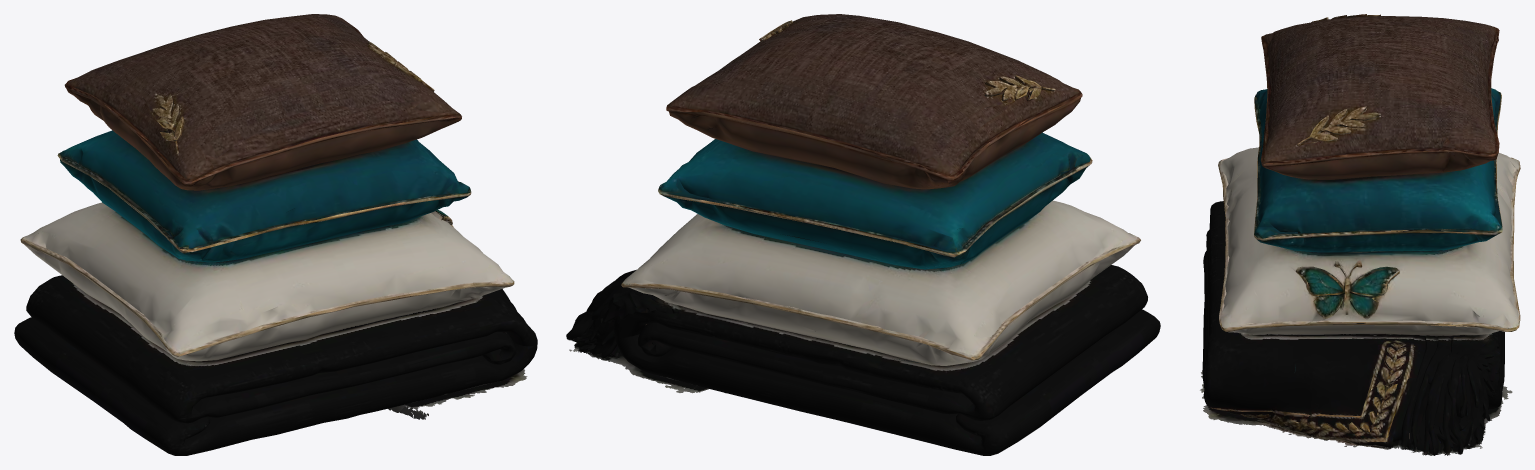
File: TH-12_textiles_game.glb
3 renders of one model, left to right at view 1: azimuth 30°, elevation 25°; view 2: azimuth 150°, elevation 25°; view 3: azimuth 270°, elevation 25°, orthographic. The views are drawn at different scales.
Visible parts, largest first — view 1: TH-12_textiles; view 2: TH-12_textiles; view 3: TH-12_textiles.
Boxes of the visible parts, left/top/right/bottom form: TH-12_textiles: left=14, top=14, right=537, bottom=455; TH-12_textiles: left=566, top=14, right=1160, bottom=455; TH-12_textiles: left=1200, top=14, right=1520, bottom=455.
Bounding box in the file's own units: 0.65 × 0.4511 × 0.4419.
Materials: 1 (1 with a texture image).
